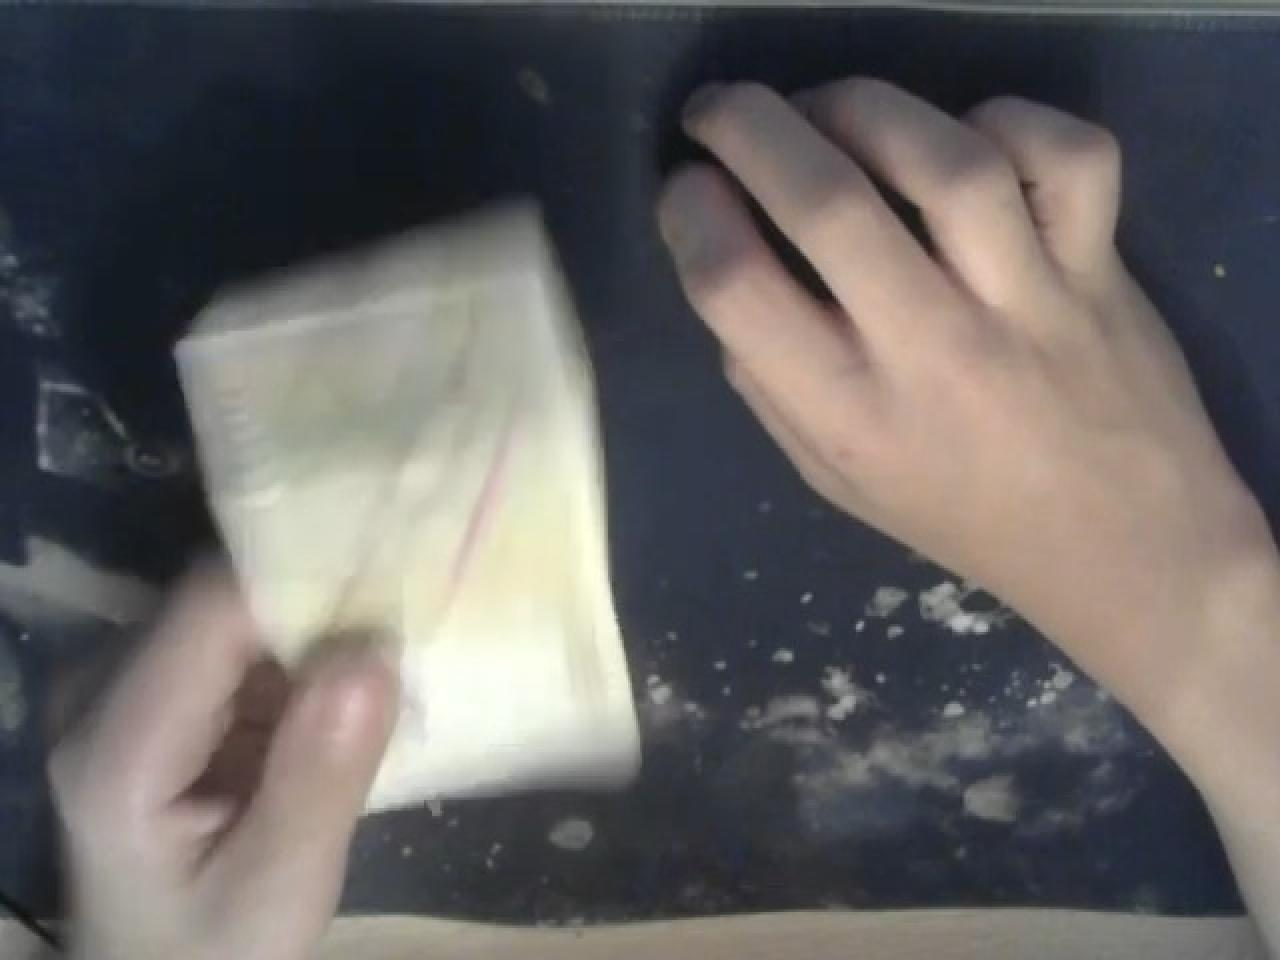10leva: (168, 190, 644, 816)
